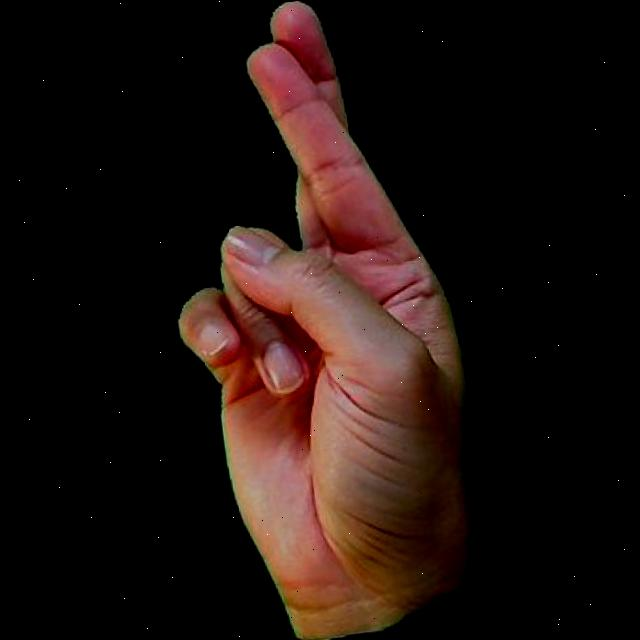r: (127, 0, 497, 640)
